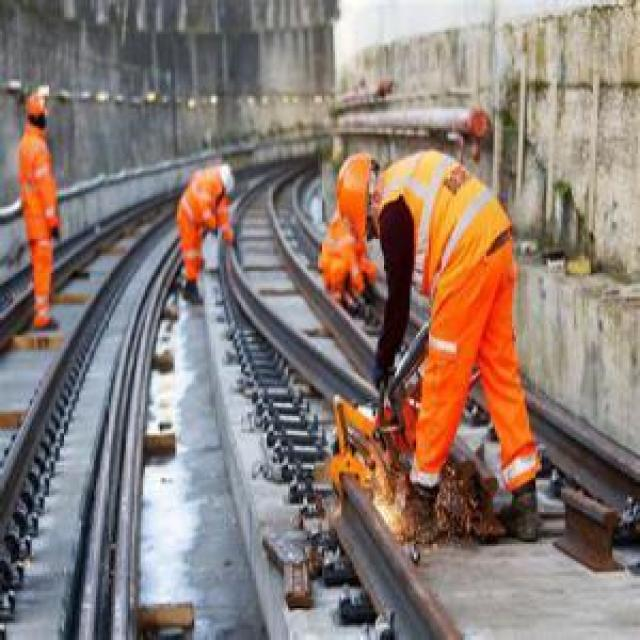danger: (317, 140, 576, 565), (9, 86, 62, 335), (160, 155, 240, 310), (313, 209, 378, 318)
rail: (0, 144, 640, 640)
